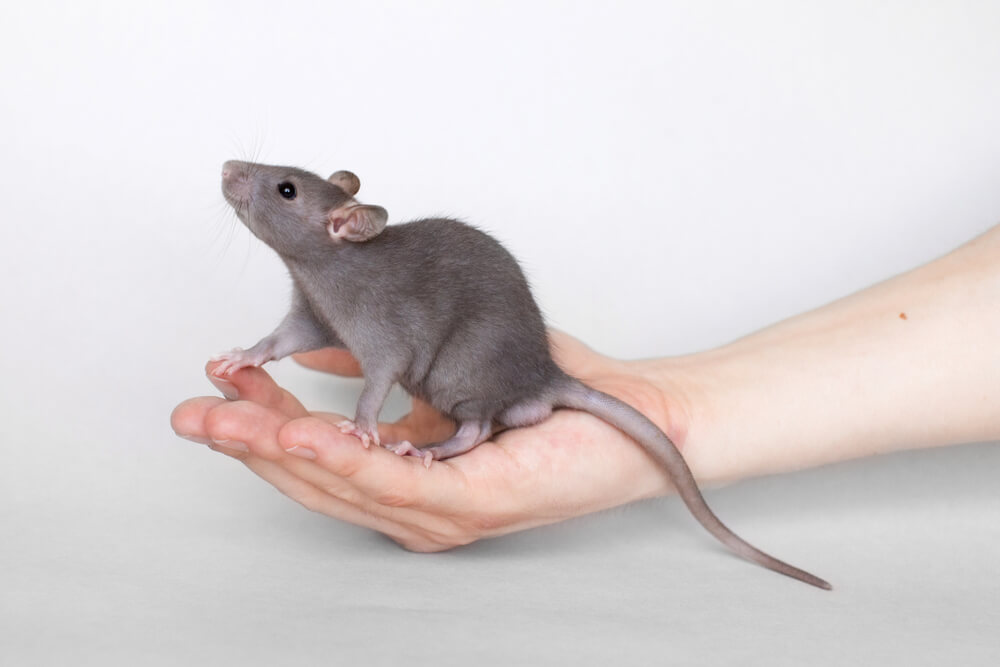rat: (183, 143, 588, 468)
